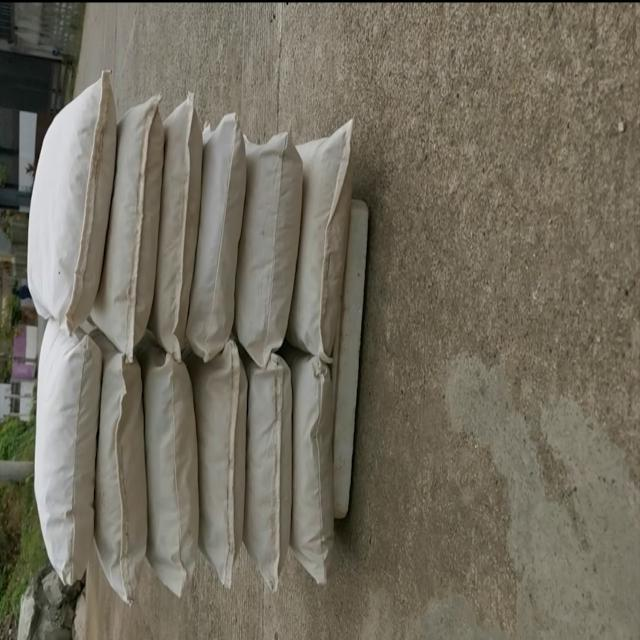Sack: (21, 66, 117, 325), (32, 325, 106, 587), (98, 95, 170, 363), (180, 106, 255, 363), (86, 345, 154, 616), (234, 124, 308, 370), (289, 124, 361, 361), (145, 99, 209, 363), (142, 350, 203, 601), (190, 341, 252, 576), (239, 348, 300, 582), (287, 361, 347, 587)
